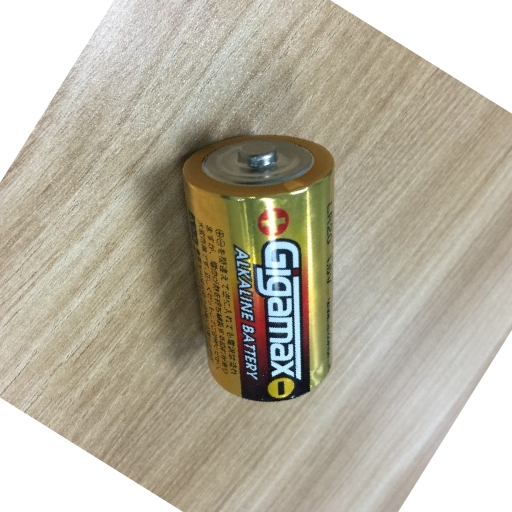Battery_0: (175, 121, 356, 408)
